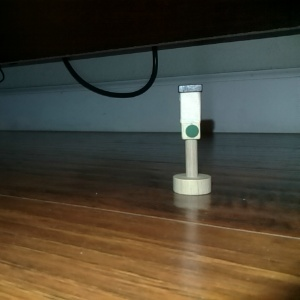traffic light green: (170, 82, 212, 197)
